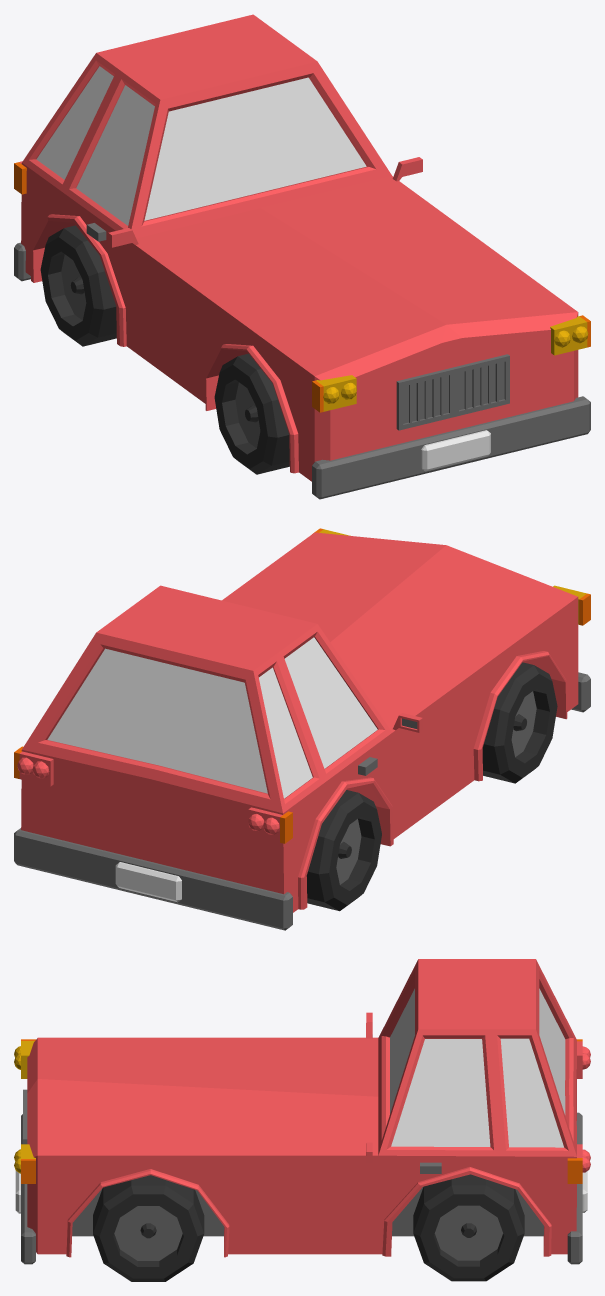
The model's file is Car F.fbx.
The picture shows the model from 3 angles, top to bottom: view 1: azimuth 30°, elevation 25°; view 2: azimuth 150°, elevation 25°; view 3: azimuth 270°, elevation 25°; orthographic projection. The views are drawn at different scales.
Parts seen in each view (by area): view 1: Car F; view 2: Car F; view 3: Car F.
Boxes of the visible parts, x1,y1,x2,y2 form: Car F: (14, 14, 590, 499); Car F: (14, 528, 590, 930); Car F: (14, 959, 590, 1281).
Size of the model in its own units: 167 by 126 by 292.
